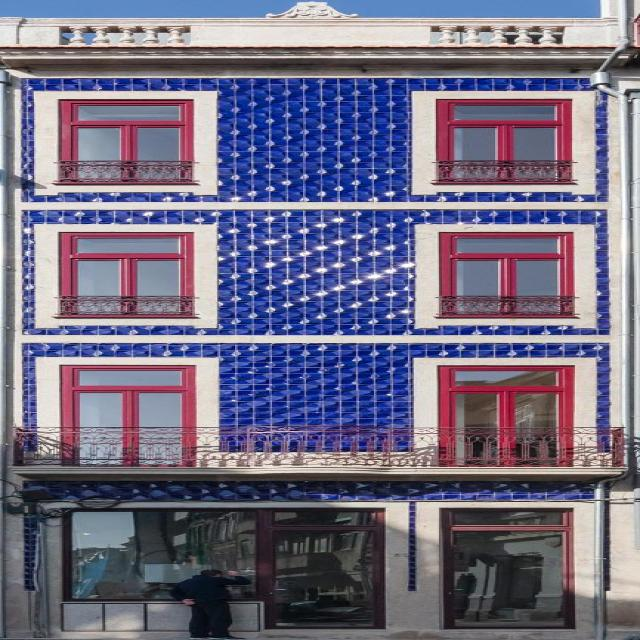door: (62, 508, 378, 629), (440, 506, 570, 627)
railing: (21, 428, 628, 470), (440, 162, 576, 183), (66, 161, 195, 183), (450, 297, 582, 318), (75, 299, 199, 317)
window: (440, 102, 569, 162), (74, 369, 198, 428), (74, 235, 187, 297), (449, 369, 567, 428), (72, 103, 192, 161), (453, 237, 565, 297)
